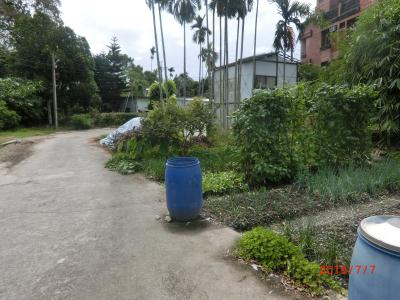bucket: (162, 153, 211, 226)
